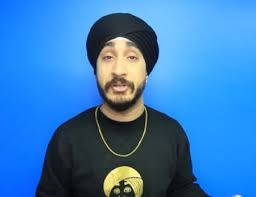helmet: (83, 10, 163, 110)
